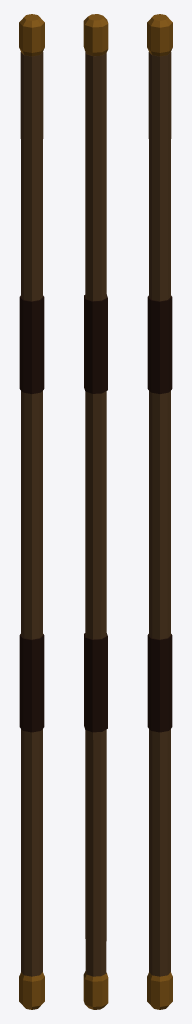
Rendered from Staff.obj.
The picture shows the model from 3 angles, left to right: view 1: azimuth 90°, elevation 25°; view 2: azimuth 210°, elevation 25°; view 3: azimuth 270°, elevation 25°; orthographic projection.
Parts seen in each view (by area): view 1: Ash, Leather, Brass; view 2: Ash, Leather, Brass; view 3: Ash, Leather, Brass.
Part boxes in pixels (x1,y1,x2,y2): Ash: (20, 52, 43, 976); Leather: (19, 295, 44, 732); Brass: (19, 14, 44, 1009); Ash: (85, 52, 106, 976); Leather: (84, 294, 107, 732); Brass: (83, 14, 108, 1009); Ash: (148, 52, 171, 976); Leather: (147, 295, 172, 732); Brass: (147, 14, 172, 1009).
Bounding box in the file's own units: 0.038 × 1.61 × 0.038.
